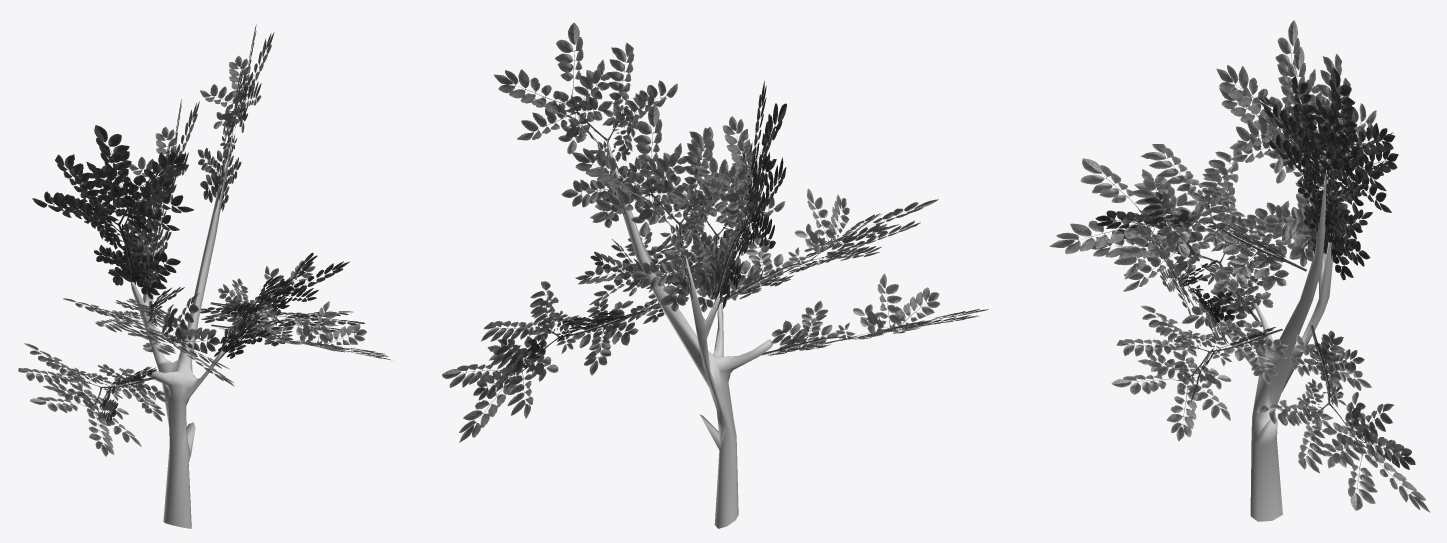
The model's file is Tree07_Foliage_Small.fbx.
3 views of the same model, side by side, from view 1: azimuth 30°, elevation 25°; view 2: azimuth 150°, elevation 25°; view 3: azimuth 270°, elevation 25° (orthographic). The views are drawn at different scales.
Visible parts, largest first — view 1: Tree1.005; view 2: Tree1.005; view 3: Tree1.005.
Boxes of the visible parts, bbox=[...] form: Tree1.005: bbox=[18, 24, 391, 528]; Tree1.005: bbox=[442, 22, 988, 528]; Tree1.005: bbox=[1049, 20, 1430, 521].
Size of the model in its own units: 108 by 111 by 78.52.
